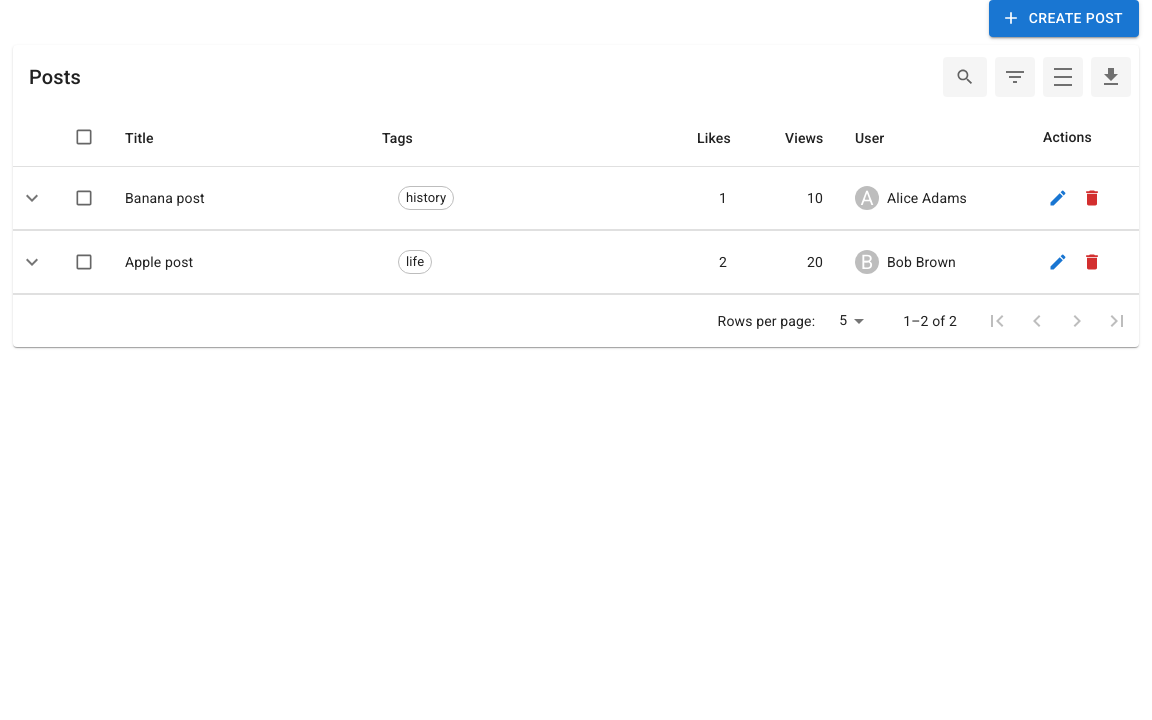
Test: PostsTable › removes a created post from the table after it is deleted
Expected: the column heading "Banana post" is shown, [109, 167, 382, 230]
Click the button "Create Post".
click(1064, 18)  # box [989, 0, 1139, 36]
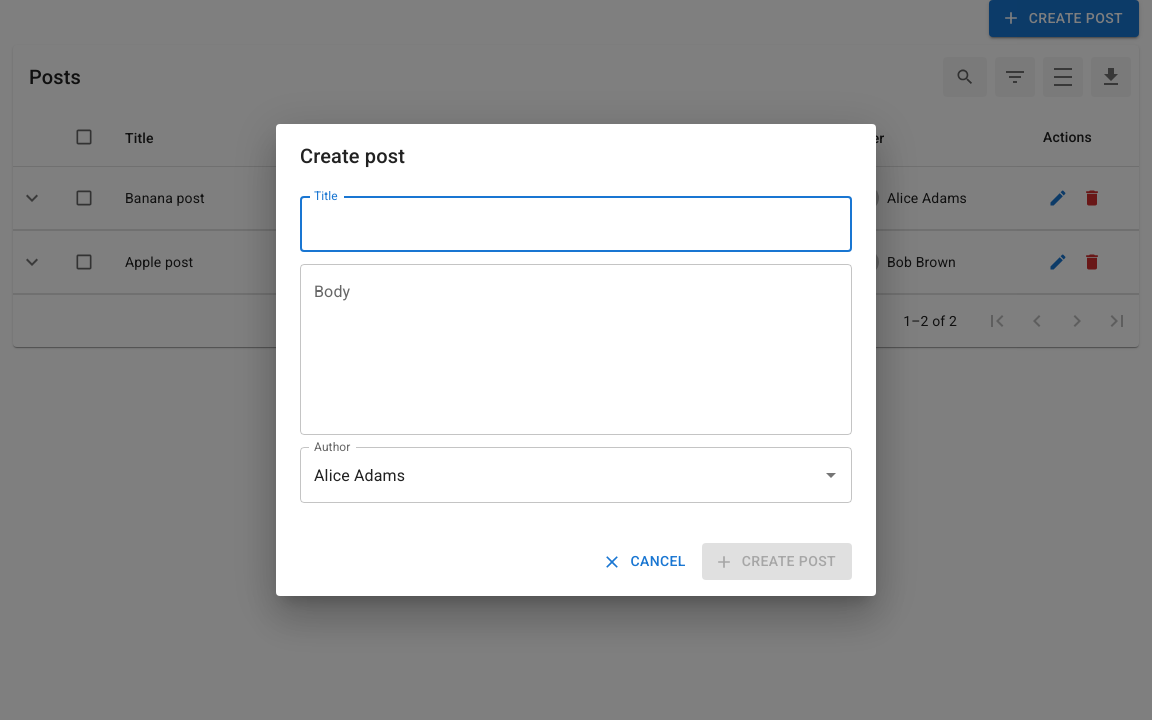
Type "Fresh post" into the field labelled "Title".
click(576, 224); type("Fresh post")  # box [300, 196, 852, 252]
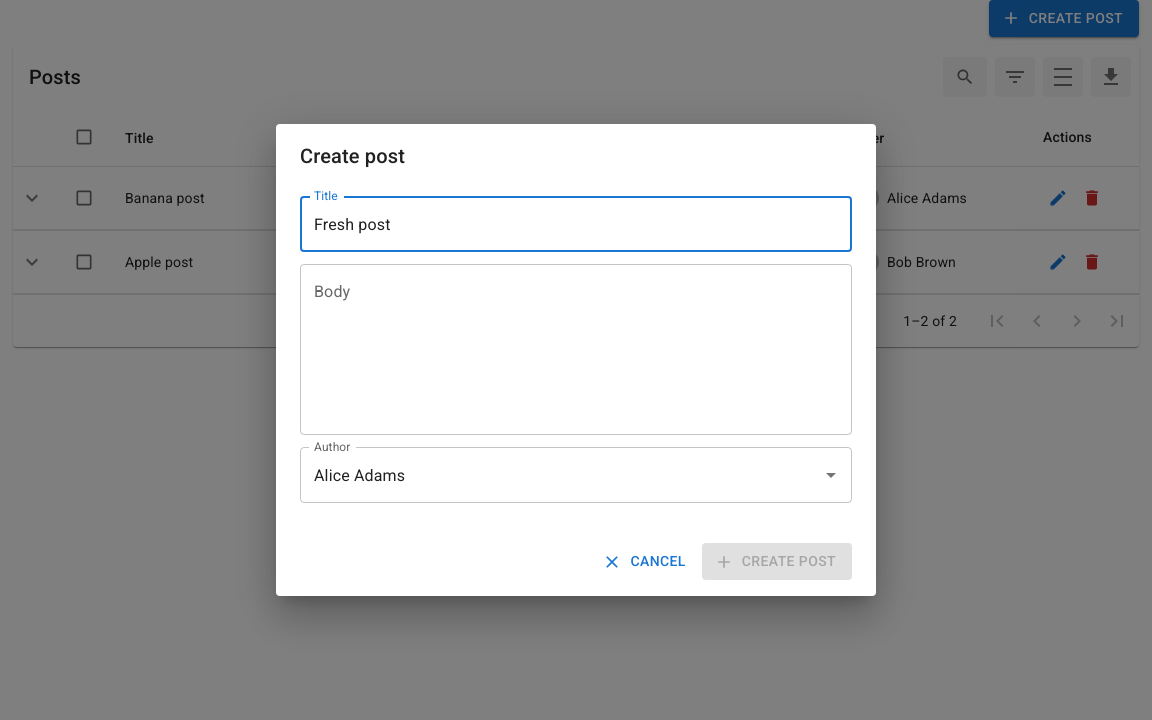
Type "Fresh body" into the text box labelled "Body".
click(576, 350); type("Fresh body")  # box [314, 281, 838, 419]
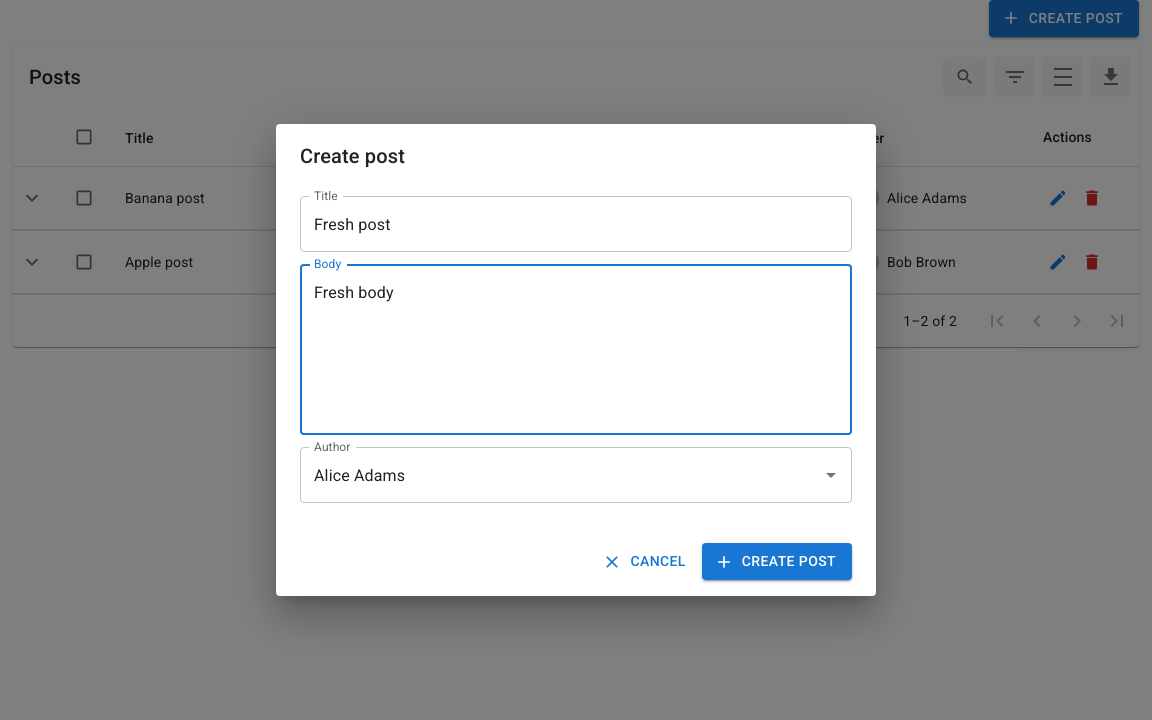
Click the button "Create Post".
click(777, 562)  # box [702, 543, 852, 580]
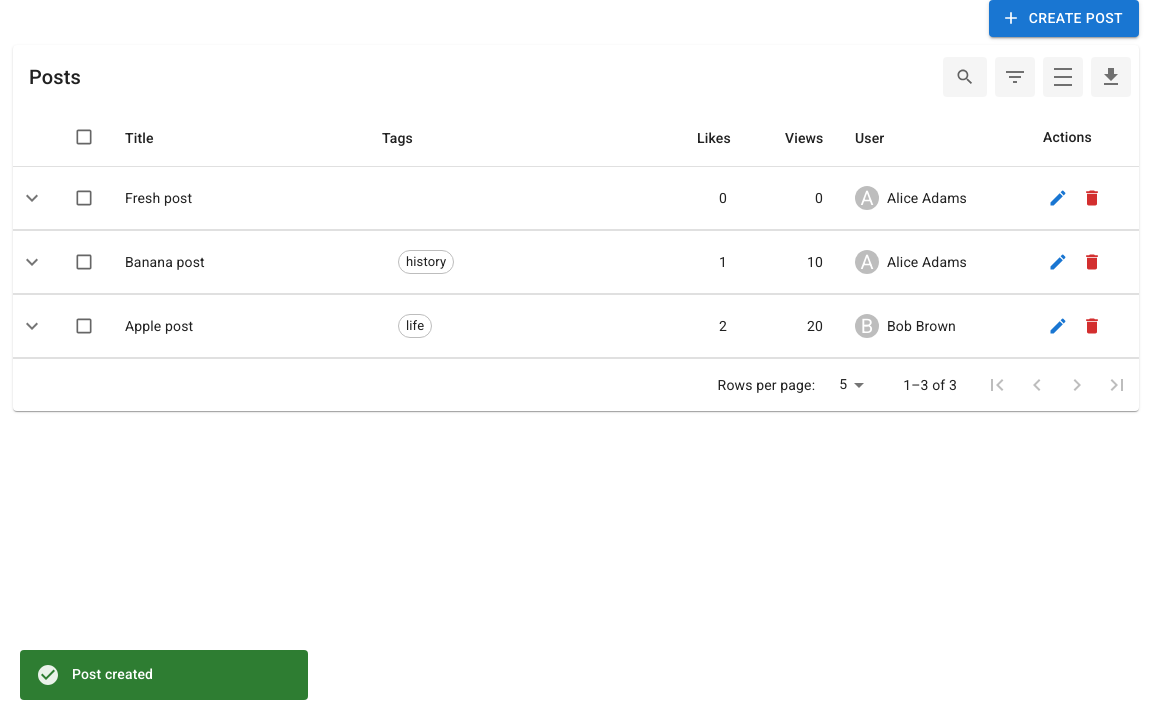
Result: the dialog is gone
Result: the column heading "Fresh post" is shown at [109, 167, 382, 230]
Click the button named "delete post" in the row of "Fresh post".
click(1092, 198)  # box [1077, 183, 1107, 213]
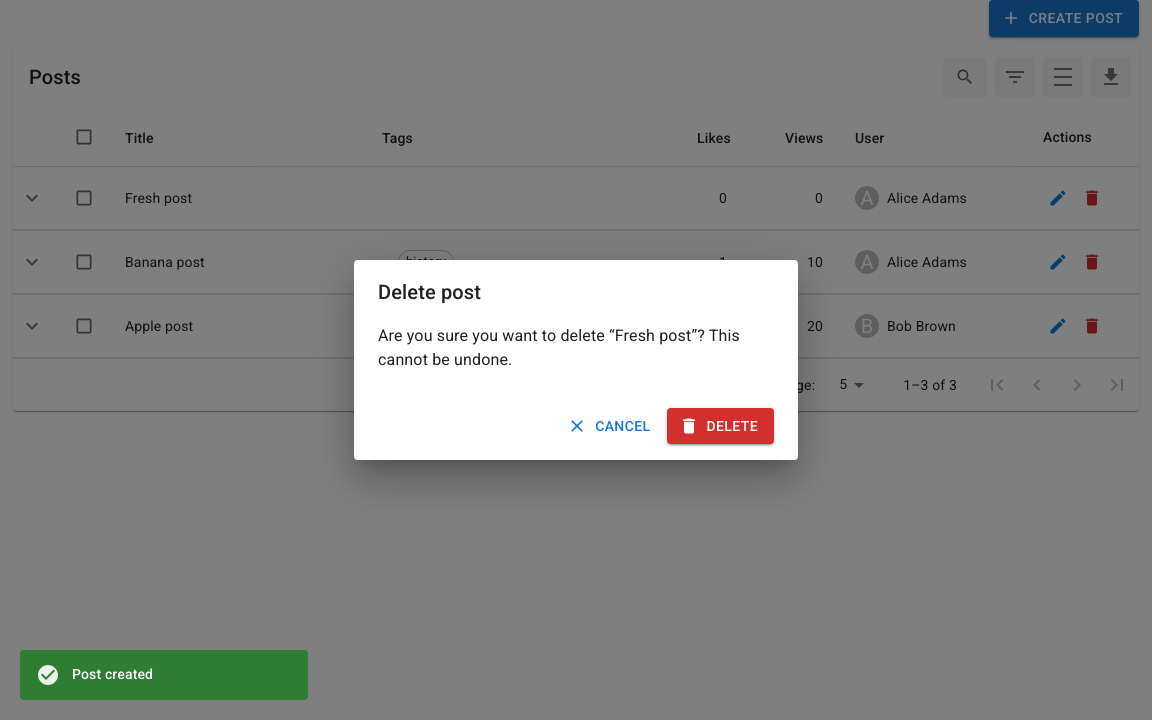
Click the button "Delete".
click(720, 426)  # box [666, 408, 774, 444]
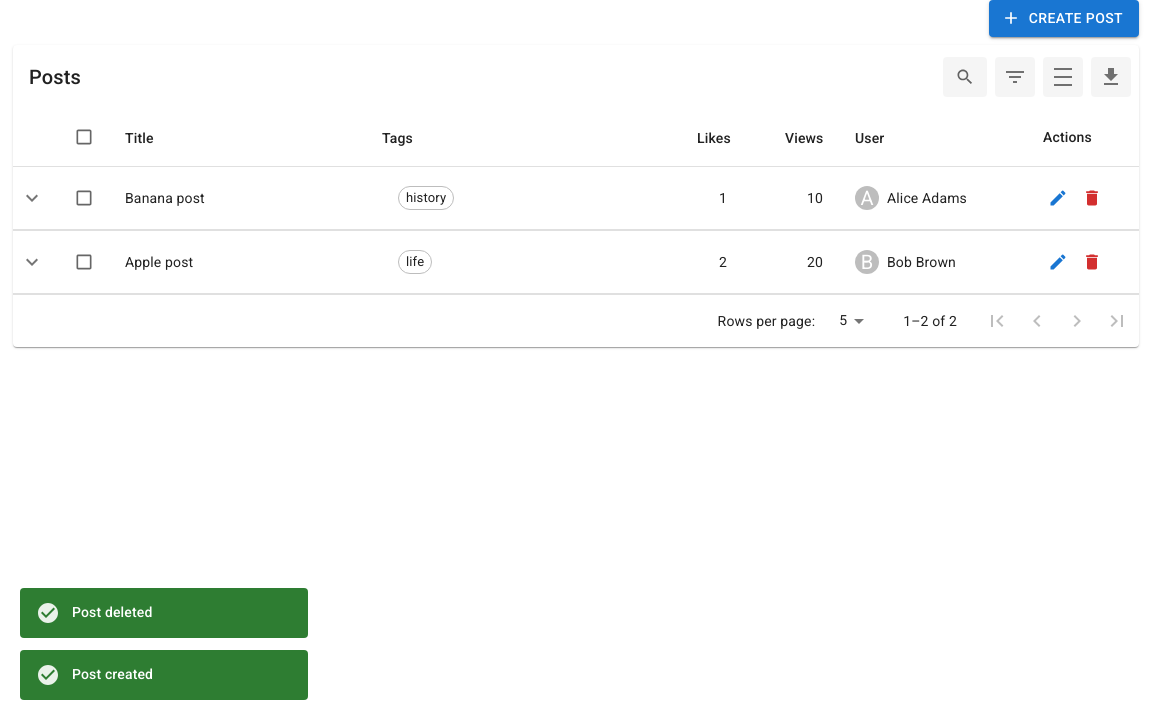
Result: the text "Post deleted" is shown at [72, 604, 152, 620]
Result: the dialog is gone
Result: the checkbox "Fresh post" is gone
